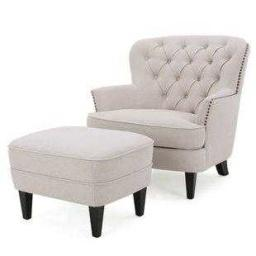Chair: (87, 35, 253, 197)
